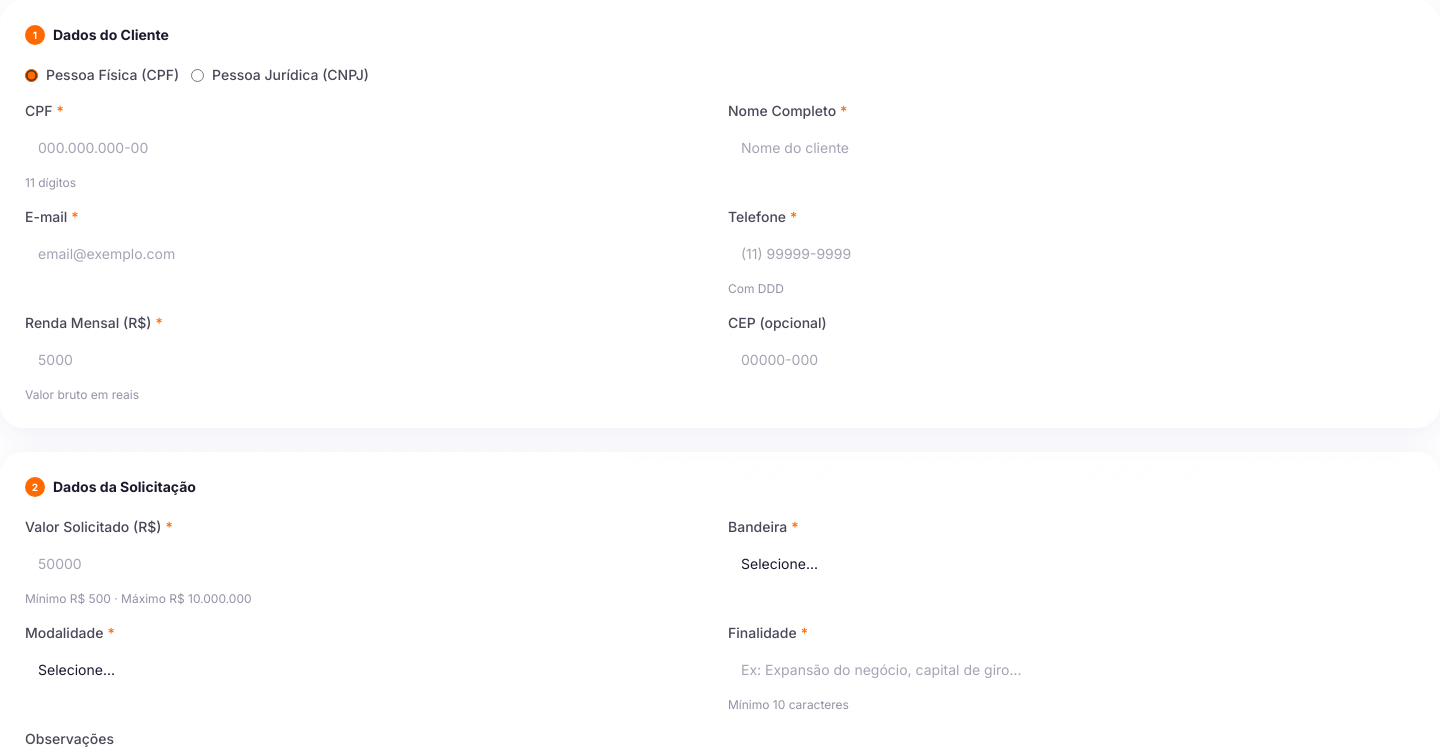
CreditRequestForm › tipo switching › switches document placeholder to CNPJ when PJ is selected
The image size is (1440, 756).
Click the radio button labelled "Pessoa Jurídica (CNPJ)": [198, 75] box 191,68 -> 204,82
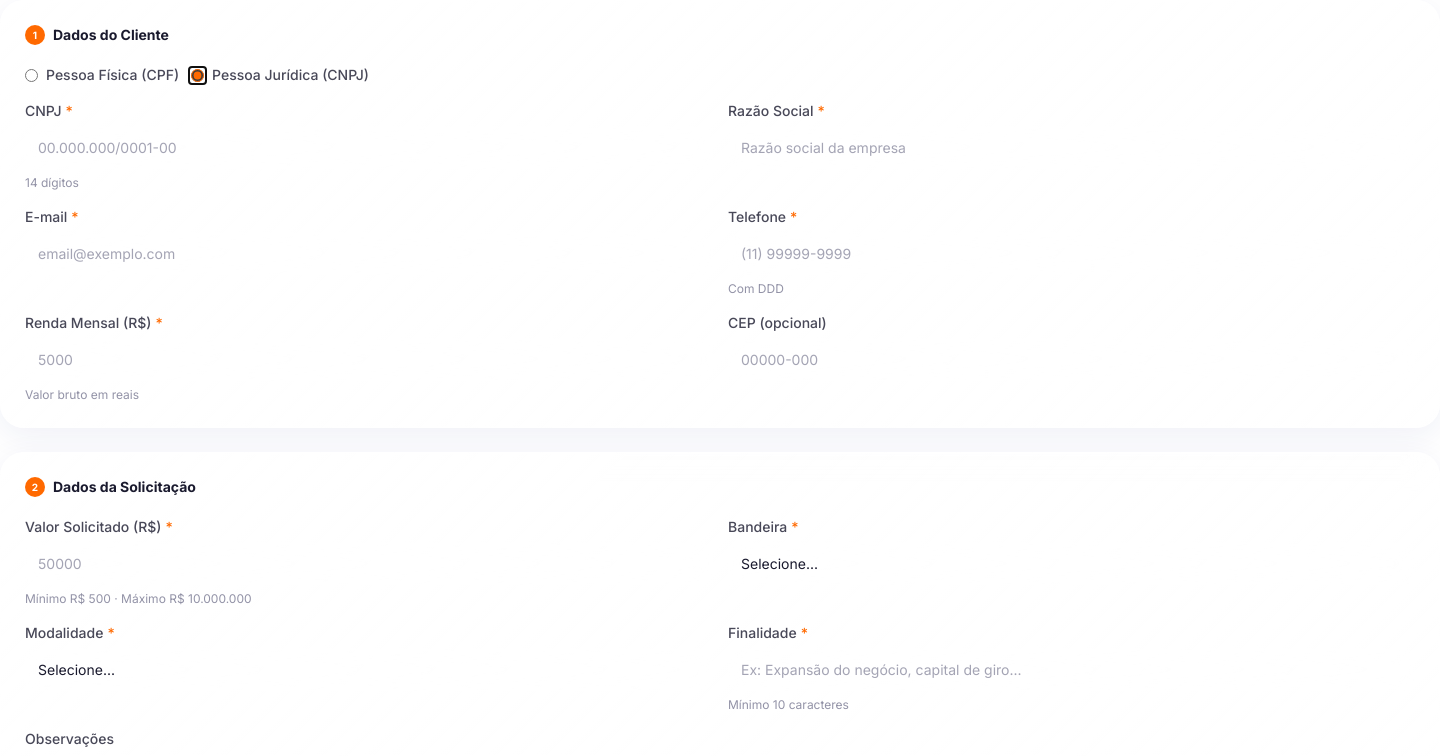
Now the field with placeholder "00.000.000/0001-00" is shown, box 25,127 -> 712,169
